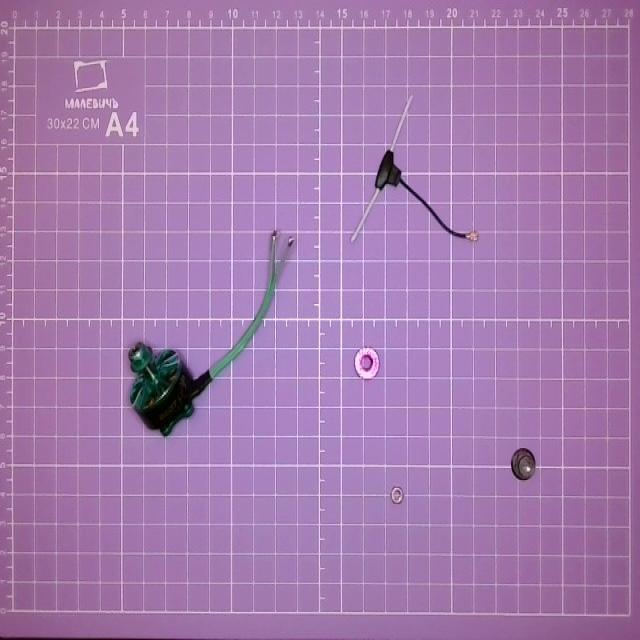antenna: (349, 98, 477, 255)
motor: (123, 225, 294, 436)
screw_M3: (389, 481, 405, 509)
screw_M5: (511, 444, 537, 489), (354, 344, 382, 382)
